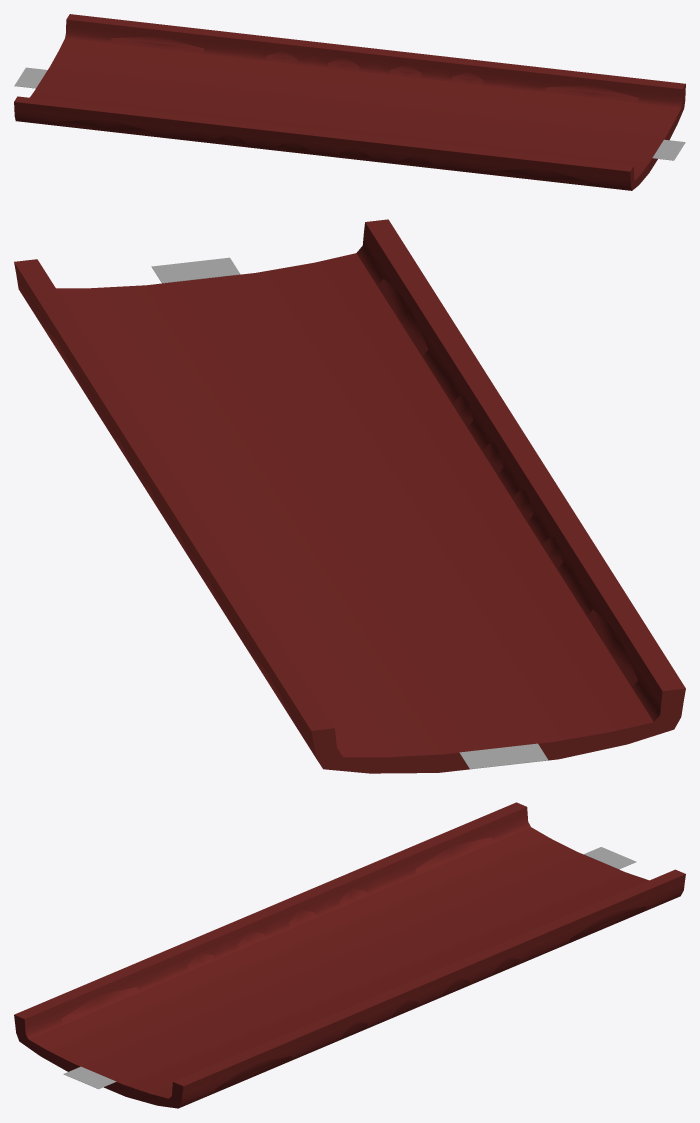
Rendered from 45Straight.fbx.
The picture shows the model from 3 angles, top to bottom: view 1: azimuth 30°, elevation 25°; view 2: azimuth 150°, elevation 25°; view 3: azimuth 270°, elevation 25°; orthographic projection. The views are drawn at different scales.
Visible parts, largest first — view 1: pPipe3, pasted__pCube41, pasted__pCube39; view 2: pPipe3, pasted__pCube39, pasted__pCube41; view 3: pPipe3, pasted__pCube39, pasted__pCube41.
Part boxes in pixels (<box>): pPipe3: <box>14,14,685,190</box>; pasted__pCube41: <box>14,67,47,88</box>; pasted__pCube39: <box>652,139,685,160</box>; pPipe3: <box>14,219,685,773</box>; pasted__pCube39: <box>151,257,240,283</box>; pasted__pCube41: <box>459,743,548,769</box>; pPipe3: <box>14,802,685,1108</box>; pasted__pCube39: <box>63,1066,116,1089</box>; pasted__pCube41: <box>584,847,636,869</box>.
Bounding box in the file's own units: 26.74 × 1.53 × 26.74.
